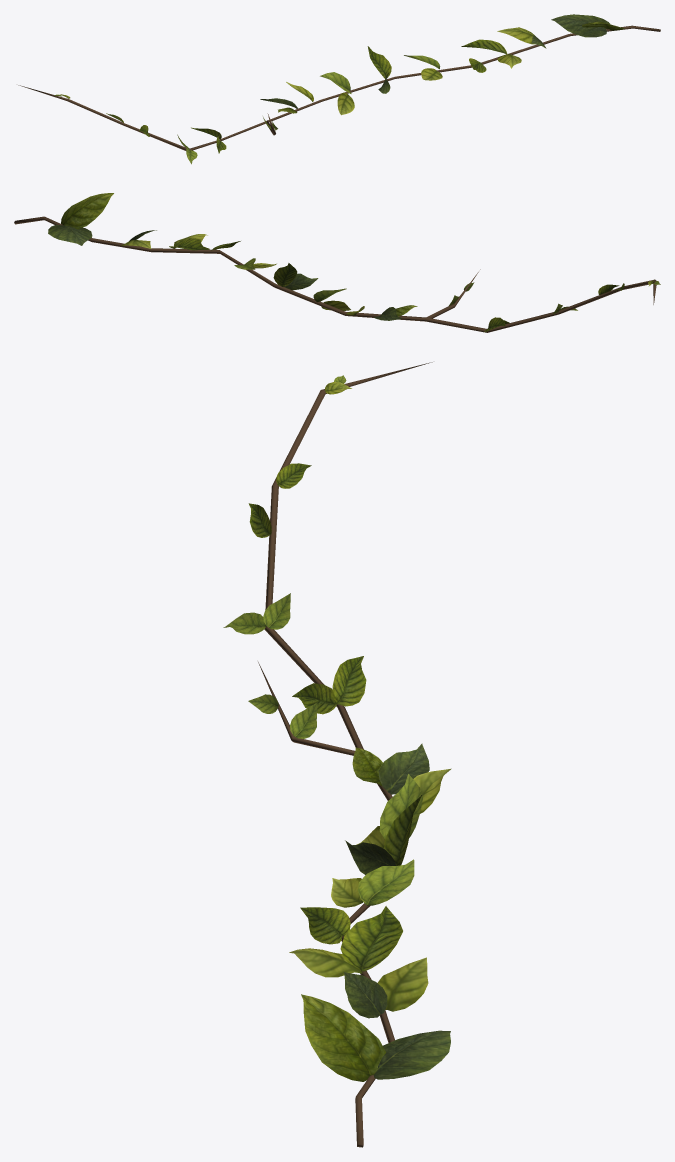
The model's file is ivy_03.fbx.
3 views of the same model, one above another, from view 1: azimuth 30°, elevation 25°; view 2: azimuth 150°, elevation 25°; view 3: azimuth 270°, elevation 25° (orthographic). The views are drawn at different scales.
Visible parts, largest first — view 1: ivy_03; view 2: ivy_03; view 3: ivy_03.
Boxes of the visible parts, box(x1,y1,x2,y2) form: ivy_03: box(18, 14, 660, 164); ivy_03: box(14, 193, 660, 332); ivy_03: box(223, 362, 451, 1147).
Bounding box in the file's own units: 13.16 × 1.92 × 2.08.
